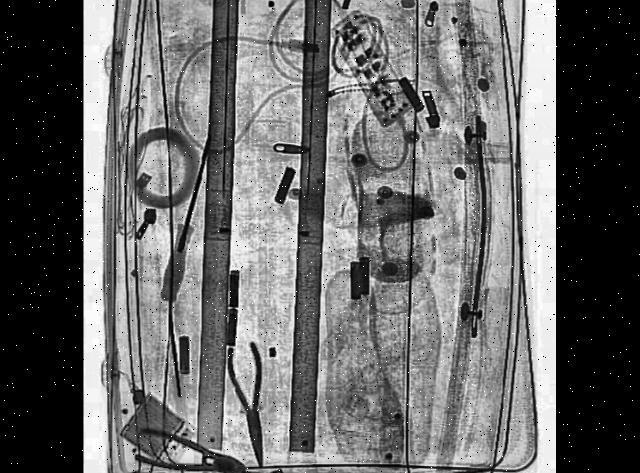Pliers: (227, 338, 278, 472), (134, 422, 248, 473)
